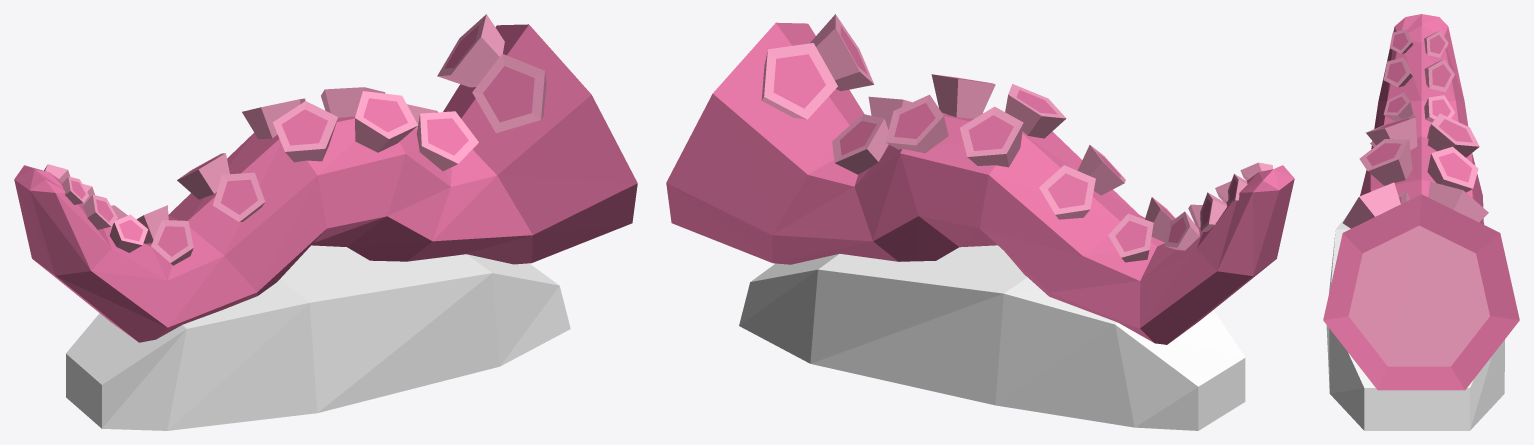
The model's file is Sushi_NigiriOctopus.obj.
The picture shows the model from 3 angles, left to right: view 1: azimuth 30°, elevation 25°; view 2: azimuth 150°, elevation 25°; view 3: azimuth 270°, elevation 25°; orthographic projection. The views are drawn at different scales.
Parts seen in each view (by area): view 1: Sushi_NigiriOctopus_PalePink2, Sushi_NigiriOctopus_White, Sushi_NigiriOctopus_PalePink; view 2: Sushi_NigiriOctopus_PalePink2, Sushi_NigiriOctopus_White, Sushi_NigiriOctopus_PalePink; view 3: Sushi_NigiriOctopus_PalePink, Sushi_NigiriOctopus_PalePink2, Sushi_NigiriOctopus_White.
Boxes of the visible parts, x1,y1,x2,y2 form: Sushi_NigiriOctopus_PalePink2: (14,24,637,342); Sushi_NigiriOctopus_White: (66,245,570,430); Sushi_NigiriOctopus_PalePink: (44,14,546,265); Sushi_NigiriOctopus_PalePink2: (666,22,1294,344); Sushi_NigiriOctopus_White: (739,245,1245,430); Sushi_NigiriOctopus_PalePink: (761,14,1272,262); Sushi_NigiriOctopus_PalePink: (1343,29,1489,366); Sushi_NigiriOctopus_PalePink2: (1323,14,1519,390); Sushi_NigiriOctopus_White: (1326,216,1504,430).
Bounding box in the file's own units: 0.762 × 0.3505 × 0.2673.
